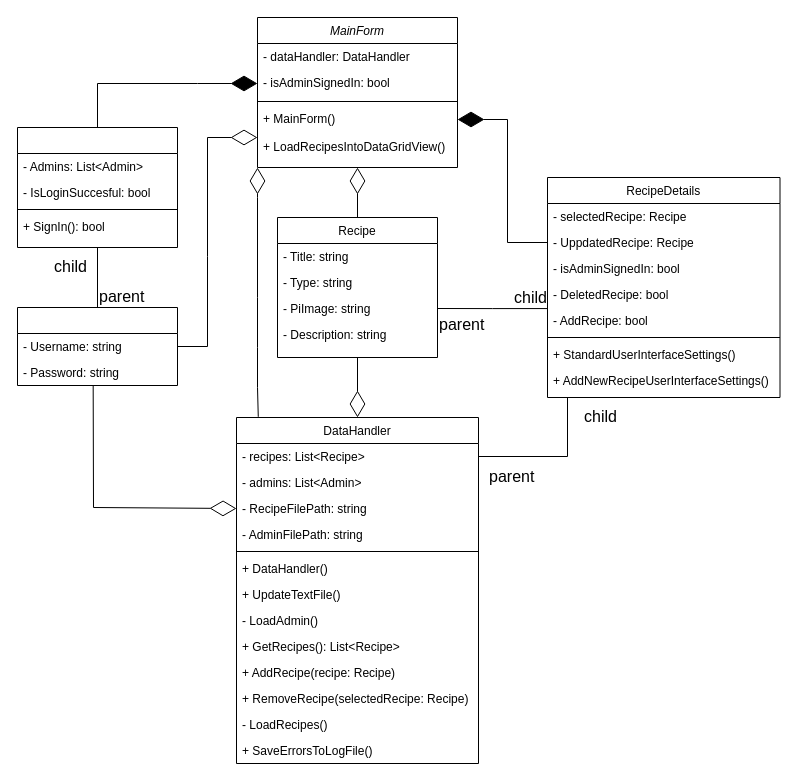
The diagram is 798 pixels wide and 784 high, and some of its shapes have lost their labels. Each missing label, with the box of its shape:
Admin: (16, 306, 178, 386)
FrmLogin: (16, 126, 178, 248)
